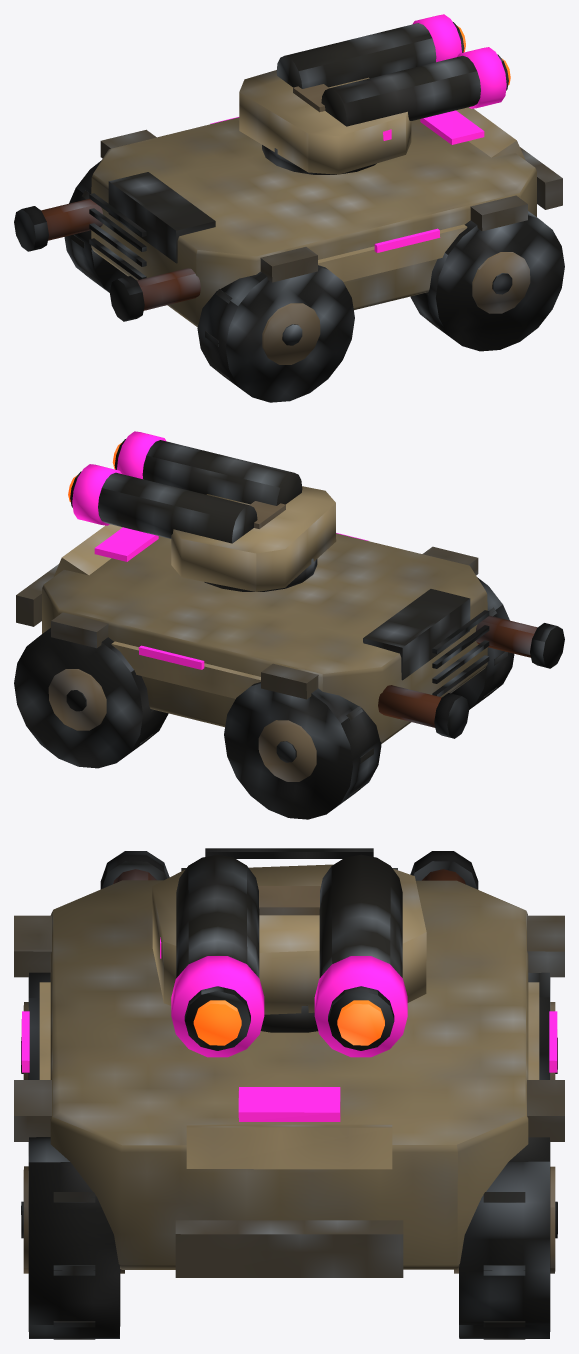
The model's file is quad.glb.
3 renders of one model, top to bottom at view 1: azimuth 30°, elevation 25°; view 2: azimuth 150°, elevation 25°; view 3: azimuth 270°, elevation 25°, orthographic. The views are drawn at different scales.
Visible parts, largest first — view 1: Sandwar3D; view 2: Sandwar3D; view 3: Sandwar3D.
Part boxes in pixels (x1=…): Sandwar3D: x1=14, y1=14, x2=564, y2=402; Sandwar3D: x1=14, y1=431, x2=564, y2=819; Sandwar3D: x1=14, y1=848, x2=564, y2=1339.
Size of the model in its own units: 1.65 by 0.8478 by 1.08.
Materials: 10 (9 with a texture image).
